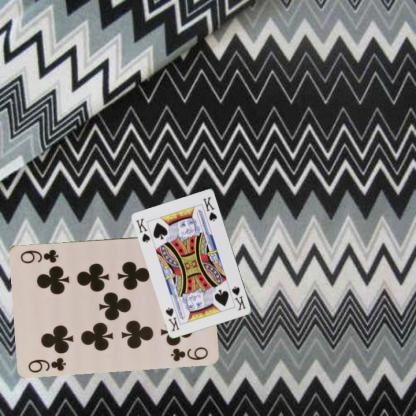9c: (26, 354, 68, 374)
Ks: (133, 216, 152, 244), (230, 284, 248, 311)
